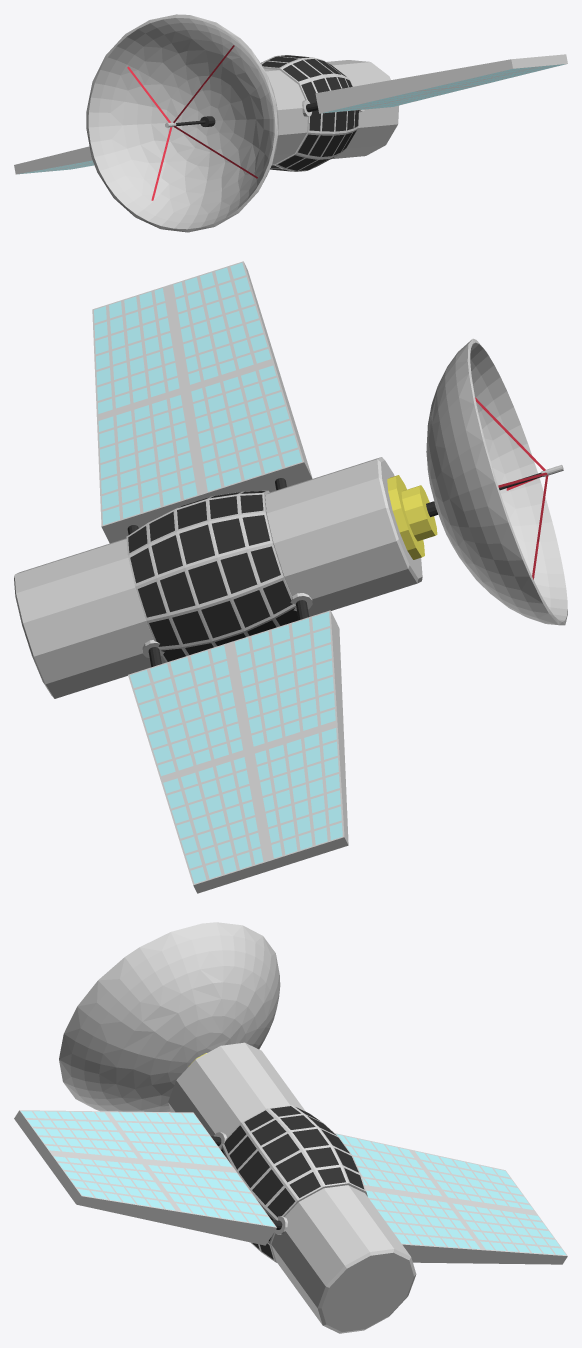
The model's file is Satelite.gltf.
3 renders of one model, top to bottom at view 1: azimuth 30°, elevation 25°; view 2: azimuth 150°, elevation 25°; view 3: azimuth 270°, elevation 25°, orthographic. The views are drawn at different scales.
Visible parts, largest first — view 1: node-0; view 2: node-0; view 3: node-0.
Boxes of the visible parts, left/top/right/bottom form: node-0: left=14, top=14, right=567, bottom=232; node-0: left=14, top=261, right=567, bottom=893; node-0: left=14, top=922, right=567, bottom=1333.
Bounding box in the file's own units: 654 × 436 × 684.
